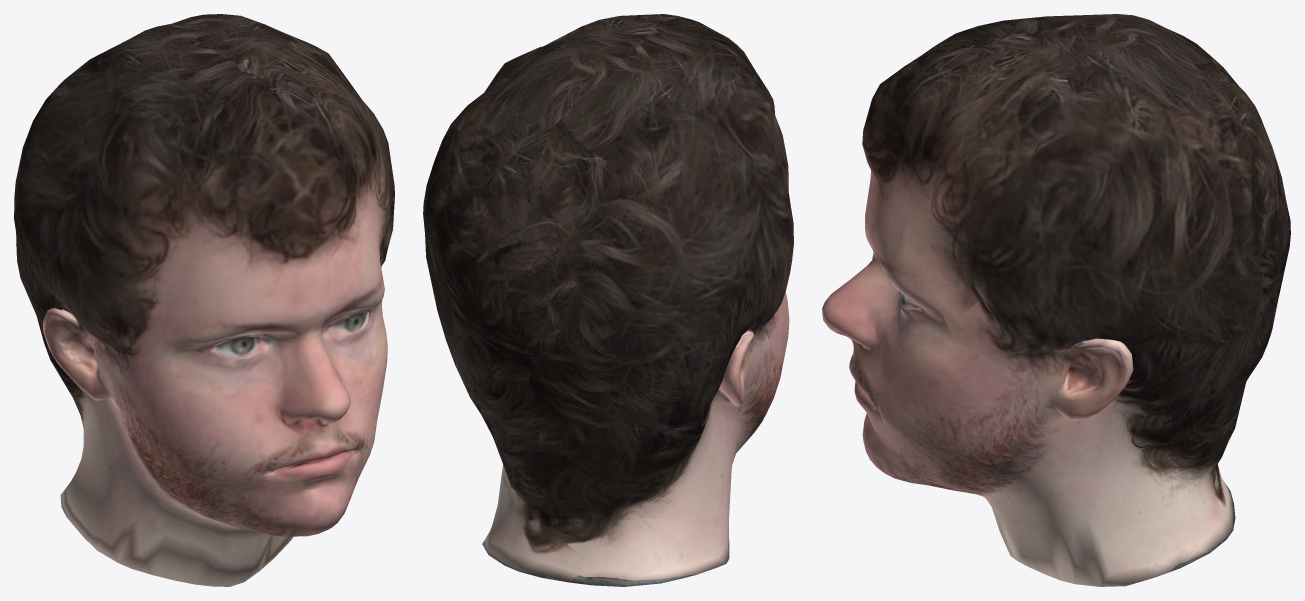
File: PatrickHead_smaller3.glb
3 renders of one model, left to right at view 1: azimuth 30°, elevation 25°; view 2: azimuth 150°, elevation 25°; view 3: azimuth 270°, elevation 25°, orthographic. The views are drawn at different scales.
Parts seen in each view (by area): view 1: 2k head.001; view 2: 2k head.001; view 3: 2k head.001.
Part boxes in pixels (x1,y1,x2,y2): 2k head.001: (14, 14, 394, 586); 2k head.001: (423, 14, 793, 586); 2k head.001: (822, 14, 1290, 586).
Size of the model in its own units: 0.5903 by 0.9112 by 0.7333.
1 material, 1 textured.
